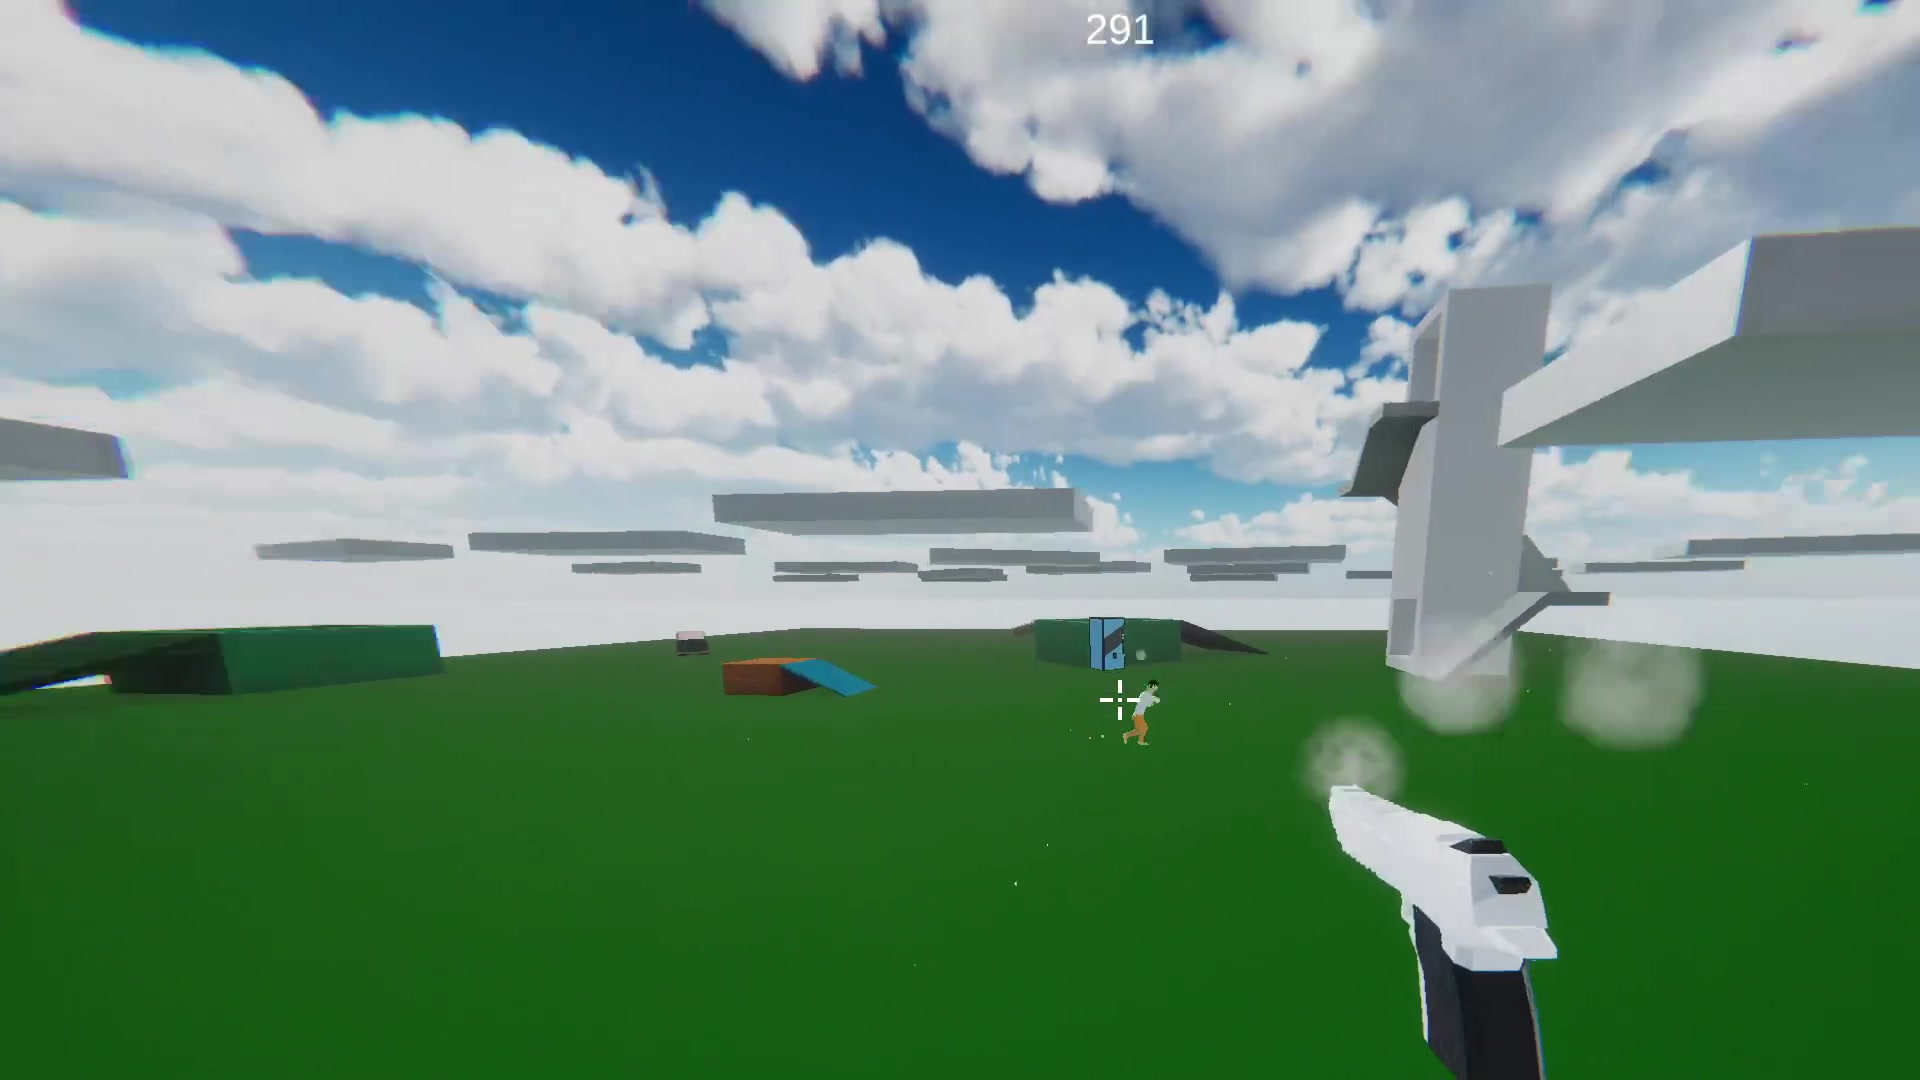human: (1131, 682, 1160, 746)
